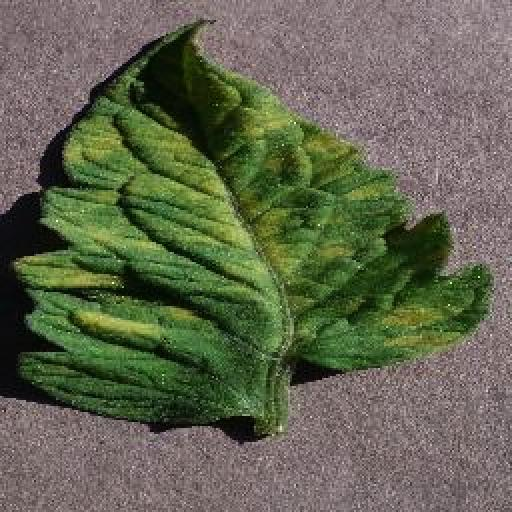disease_tomato: (10, 16, 494, 430)
